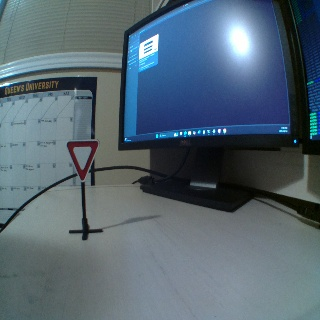sign_yield: (65, 138, 98, 178)
